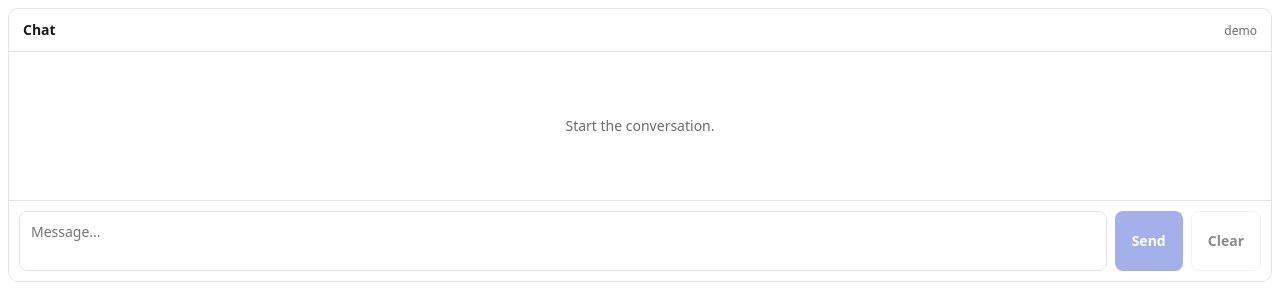
ChatPanel › shows the user turn and the streamed assistant reply
The width and height of the screenshot is (1280, 299).
In the text box labelled "Message": (563, 241) [19,211,1107,271], type "ping"
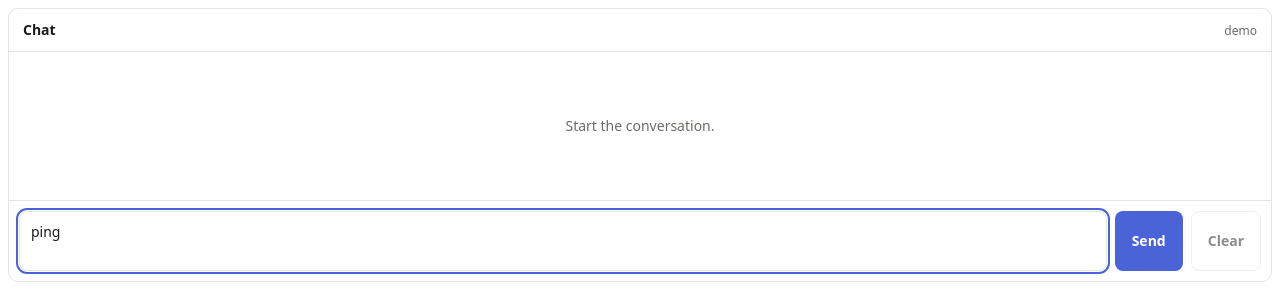
Click the button "Send": (1149, 241) [1115,211,1183,271]
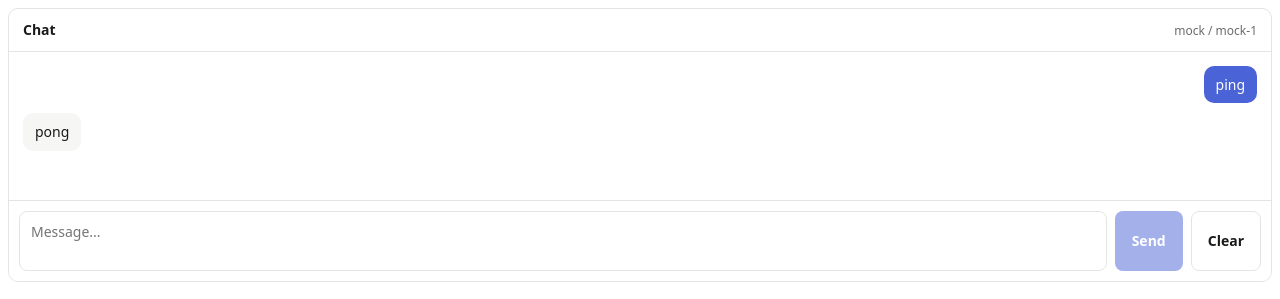
Now the text "ping" is shown, box [1204,66,1257,103]
Now the text "pong" is shown, box [23,113,81,151]
Now the text "mock / mock-1" is shown, box [1174,22,1257,41]
